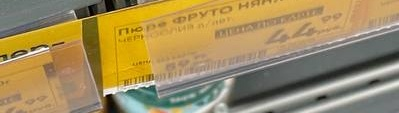1d: (121, 48, 268, 88)
